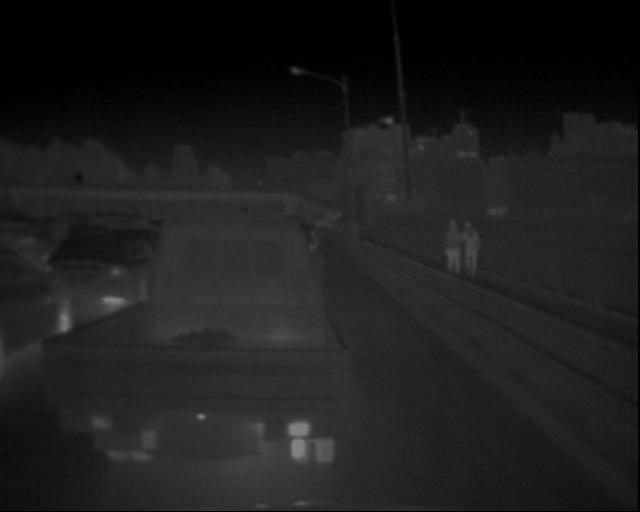person: (442, 213, 469, 276), (459, 214, 482, 284)
